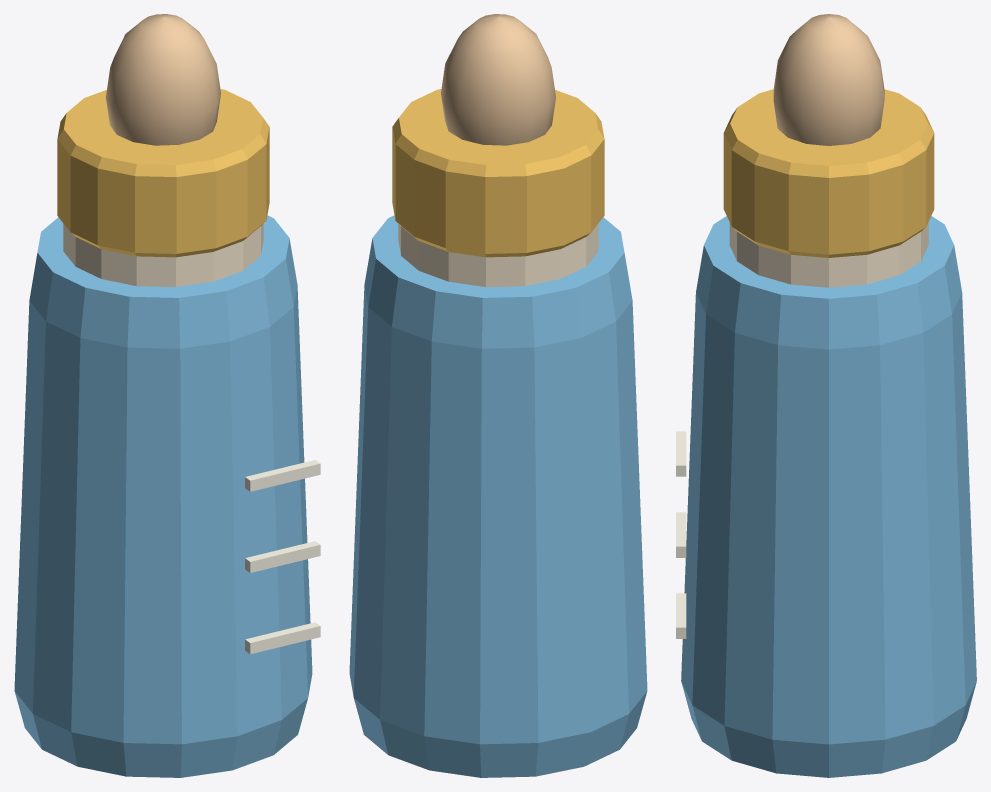
File: baby_bottle.glb
3 views of the same model, side by side, from view 1: azimuth 30°, elevation 25°; view 2: azimuth 150°, elevation 25°; view 3: azimuth 270°, elevation 25° (orthographic).
Parts seen in each view (by area): view 1: model; view 2: model; view 3: model.
Part boxes in pixels (bbox=[...]): model: bbox=[14, 14, 320, 777]; model: bbox=[349, 14, 647, 777]; model: bbox=[676, 14, 976, 777].
Size of the model in its own units: 0.14 by 0.36 by 0.14.
